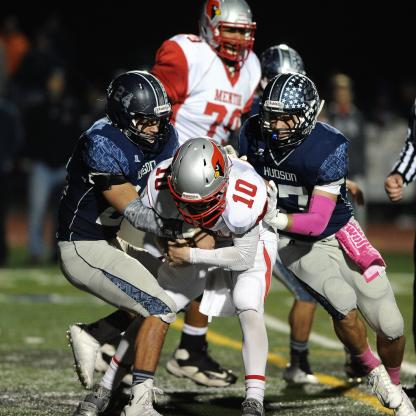Helmet: (167, 134, 231, 230), (102, 69, 175, 153), (258, 71, 324, 152), (198, 0, 259, 65), (257, 44, 305, 93)
